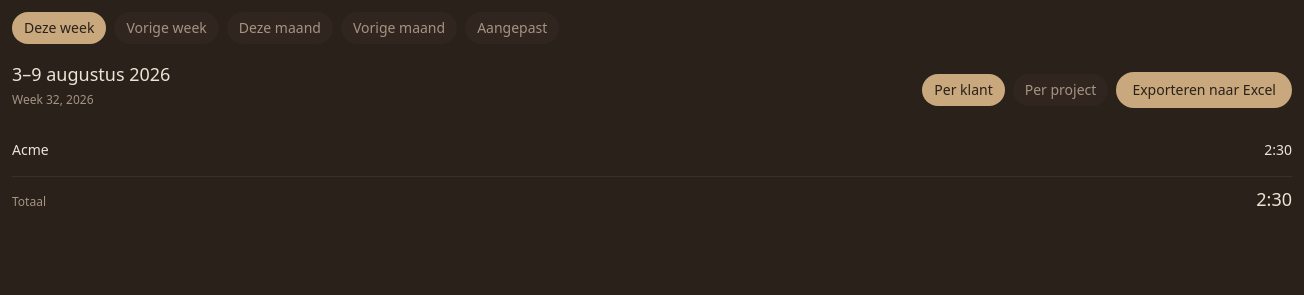
Test: a period picked by hand › starts from the range already on screen
Check: the list item is shown, box [12,140,1292,159]
Click the button "Aangepast" at (512, 28), box [465,12,559,44]
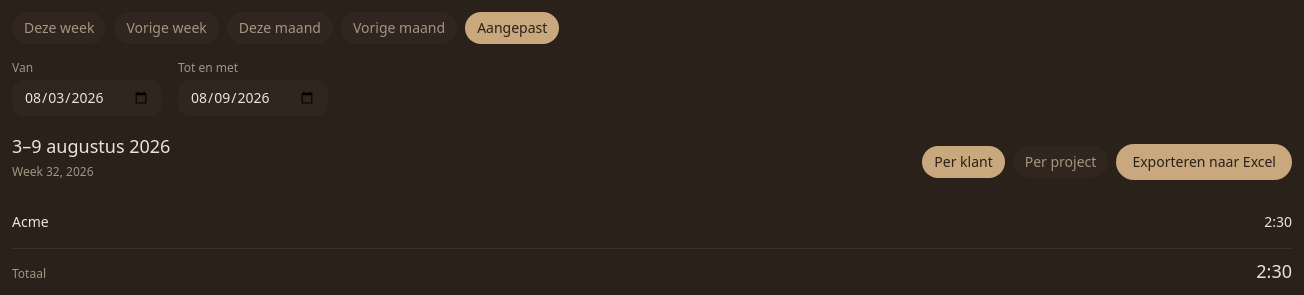
Check: the date field labelled "Van" holds "2026-08-03", box [12,80,162,116]
Check: the date field labelled "Tot en met" holds "2026-08-09", box [178,80,328,116]
